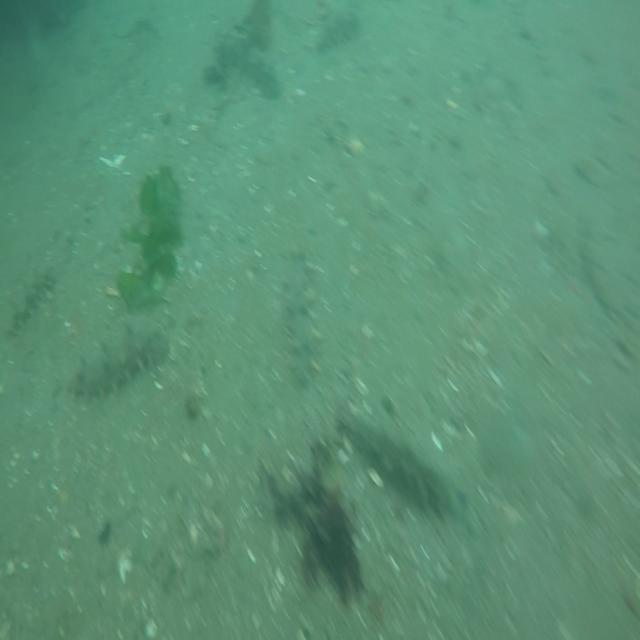holothurian: (331, 405, 460, 523), (65, 318, 166, 404), (276, 250, 322, 382), (214, 36, 280, 98), (4, 262, 56, 338), (316, 8, 364, 54)
